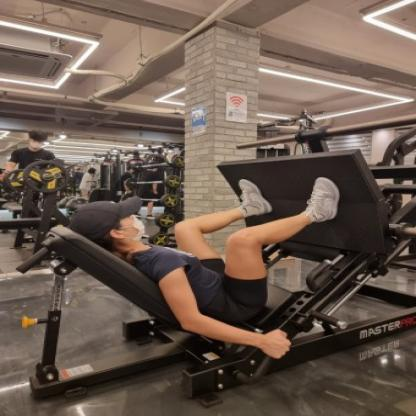leg press: (16, 110, 416, 410)
